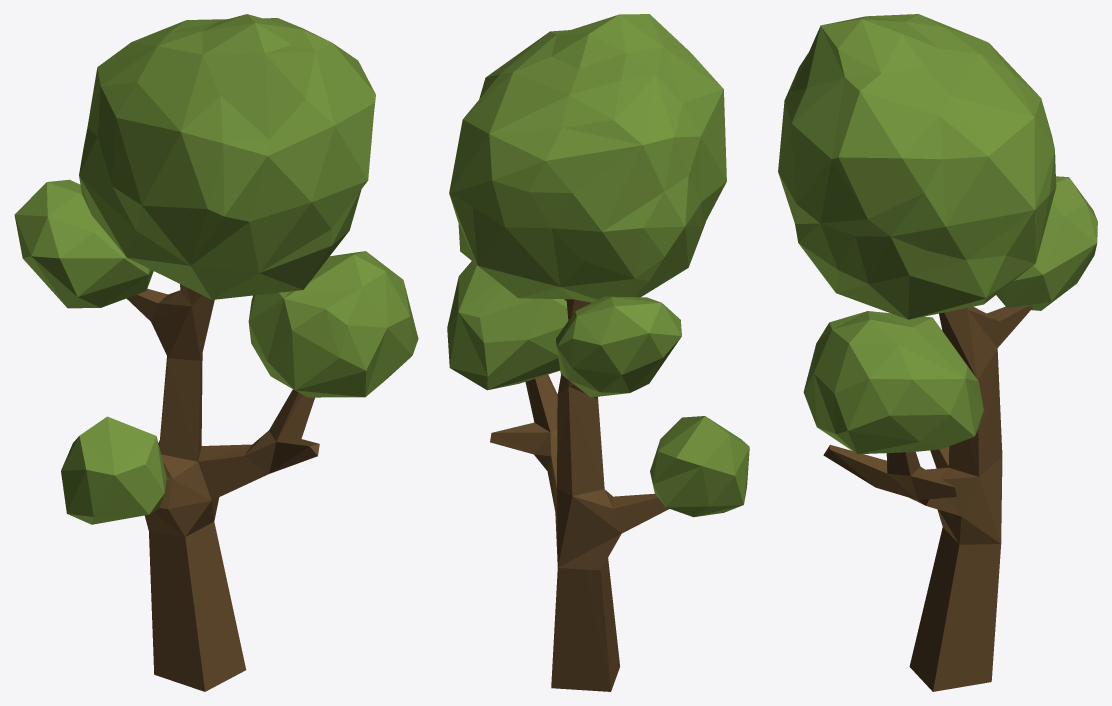
The model's file is Tree_11.fbx.
The picture shows the model from 3 angles, left to right: view 1: azimuth 30°, elevation 25°; view 2: azimuth 150°, elevation 25°; view 3: azimuth 270°, elevation 25°; orthographic projection. The views are drawn at different scales.
Parts seen in each view (by area): view 1: Tree_11; view 2: Tree_11; view 3: Tree_11.
Part boxes in pixels (box(x1,y1,x2,y2)): Tree_11: box(14, 14, 418, 691); Tree_11: box(447, 14, 749, 691); Tree_11: box(778, 14, 1097, 691).
Bounding box in the file's own units: 186 × 378 × 166.
